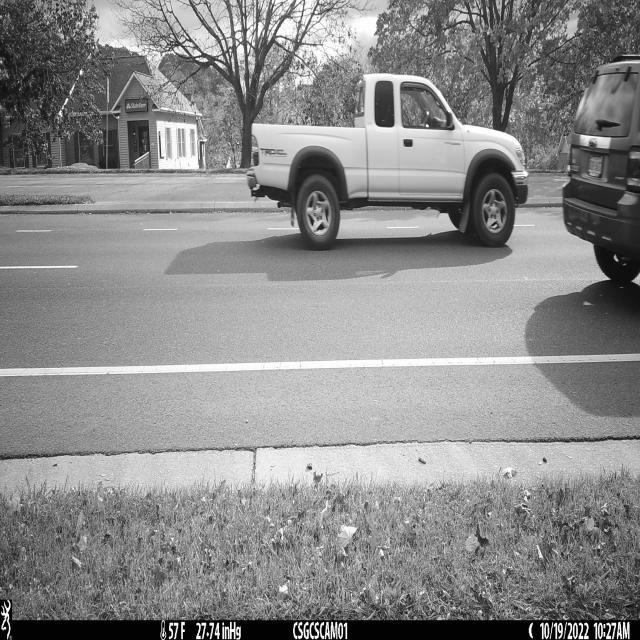Pickup: (248, 73, 530, 252)
